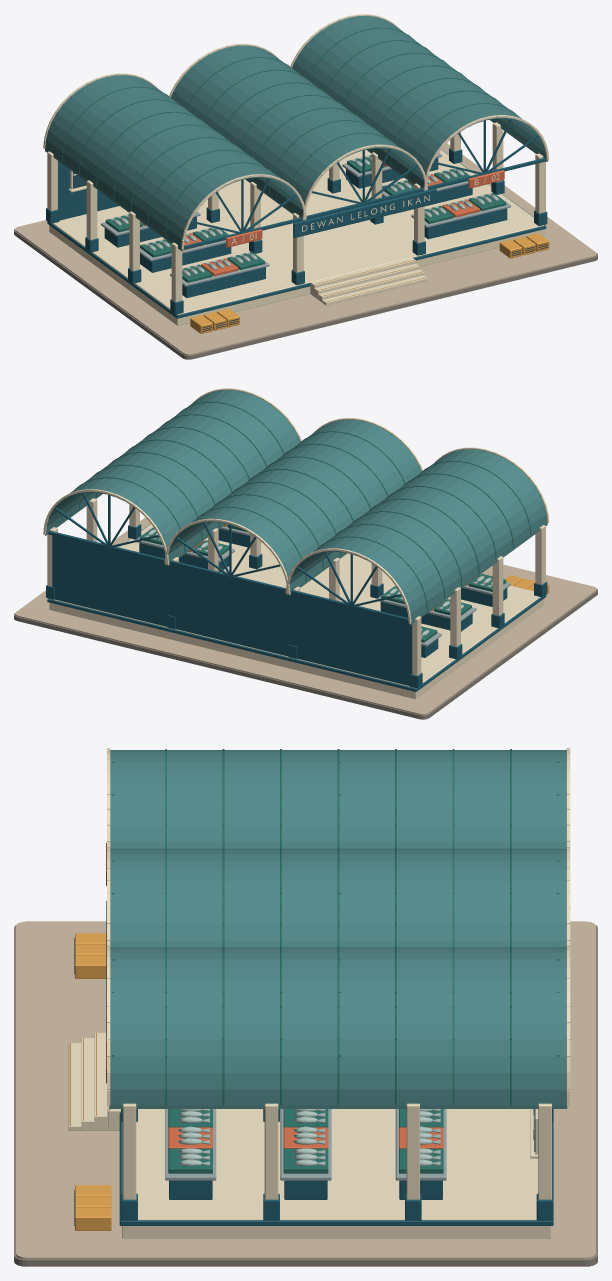
3 views of the same model, one above another, from view 1: azimuth 30°, elevation 25°; view 2: azimuth 150°, elevation 25°; view 3: azimuth 270°, elevation 25° (orthographic). The views are drawn at different scales.
Visible parts, largest first — view 1: Three Tide Vaults, Auction Arcade, Wholesale Tables; view 2: Three Tide Vaults, Auction Arcade, Wholesale Tables; view 3: Three Tide Vaults, Auction Arcade, Wholesale Tables.
Part boxes in pixels (left/top/right/bottom): Three Tide Vaults: left=43, top=14, right=548, bottom=251; Auction Arcade: left=14, top=122, right=597, bottom=359; Wholesale Tables: left=101, top=153, right=549, bottom=333; Three Tide Vaults: left=43, top=388, right=548, bottom=625; Auction Arcade: left=14, top=498, right=597, bottom=719; Wholesale Tables: left=136, top=523, right=549, bottom=657; Three Tide Vaults: left=107, top=748, right=570, bottom=1108; Auction Arcade: left=14, top=842, right=597, bottom=1266; Wholesale Tables: left=74, top=933, right=446, bottom=1230.
Bounding box in the file's own units: 26 × 8.56 × 19.
